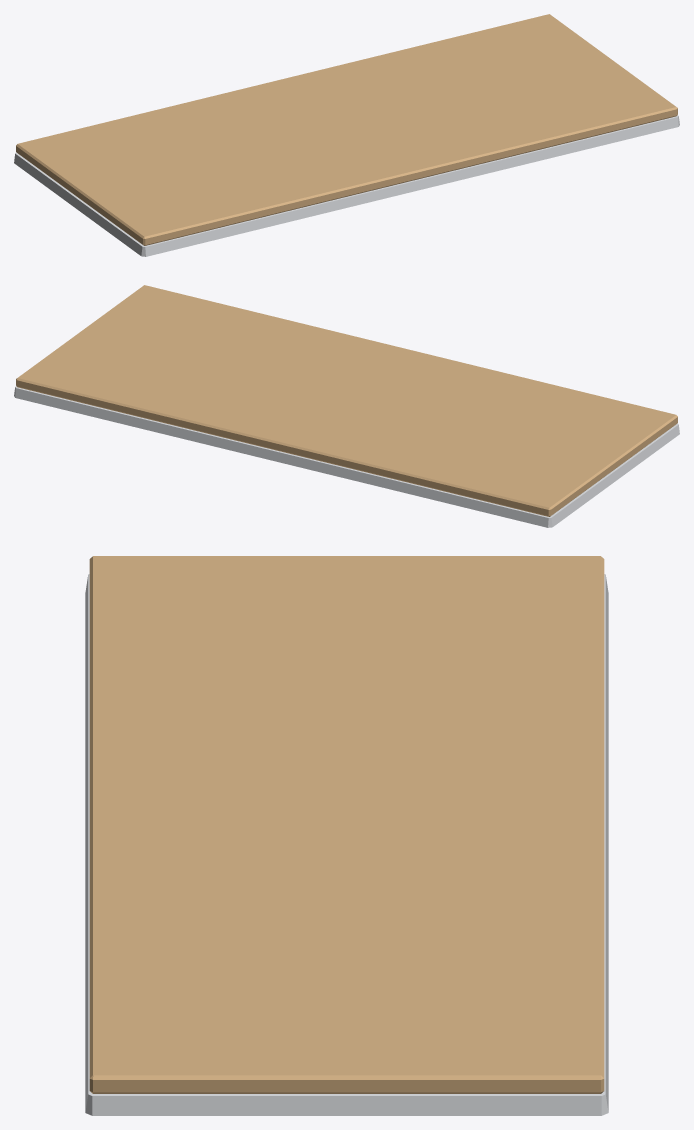
3 renders of one model, top to bottom at view 1: azimuth 30°, elevation 25°; view 2: azimuth 150°, elevation 25°; view 3: azimuth 270°, elevation 25°, orthographic. The views are drawn at different scales.
Visible parts, largest first — view 1: trestle-table-folded; view 2: trestle-table-folded; view 3: trestle-table-folded.
Part boxes in pixels (<box>): trestle-table-folded: <box>14,14,679,256</box>; trestle-table-folded: <box>14,285,679,527</box>; trestle-table-folded: <box>85,556,608,1115</box>.
Bounding box in the file's own units: 1.81 × 0.1 × 0.7621.
